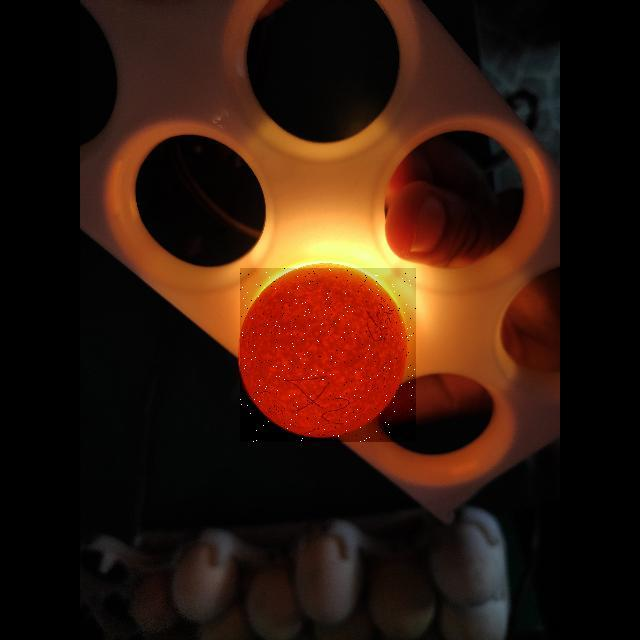Infertile: (240, 268, 416, 442)
